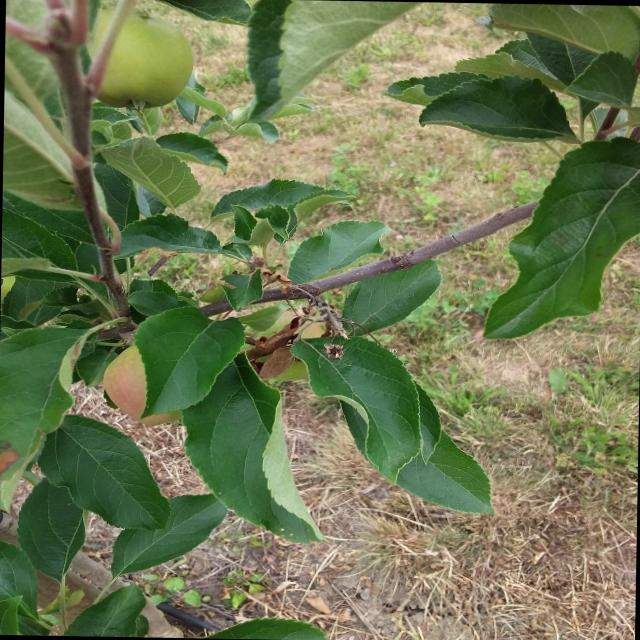-FireBlight-: (244, 328, 302, 377)
